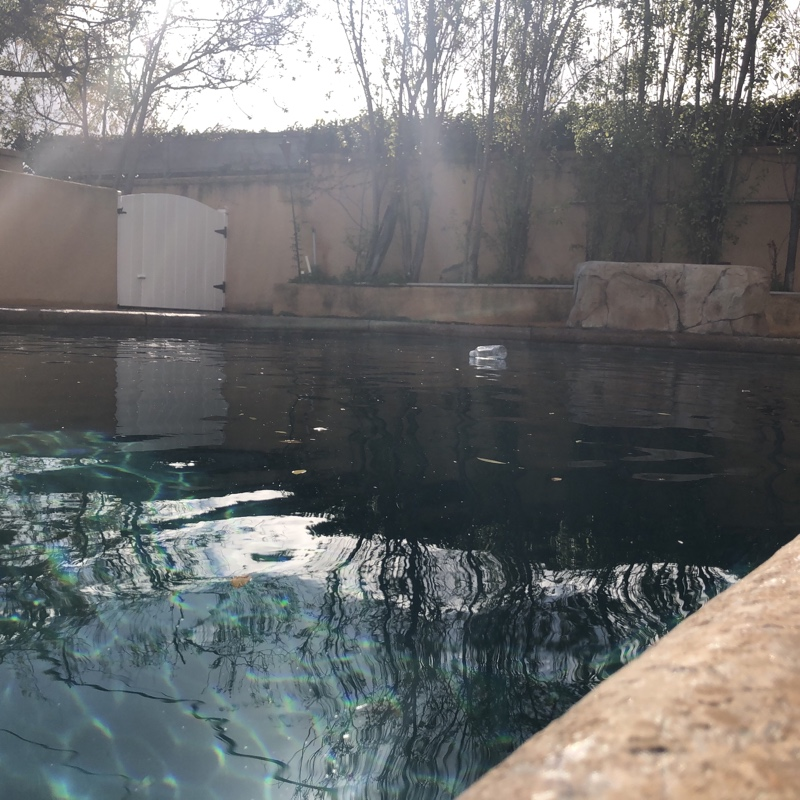Plastic Bottle: (464, 345, 504, 360)
